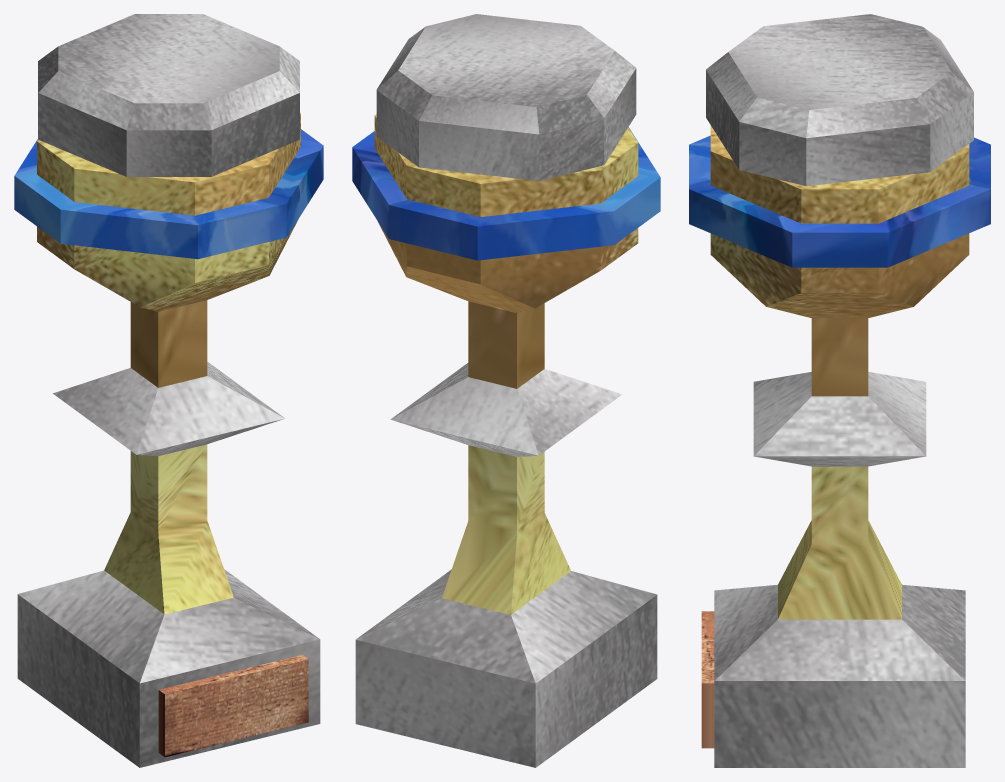
Rendered from prize.FBX.
3 views of the same model, side by side, from view 1: azimuth 30°, elevation 25°; view 2: azimuth 150°, elevation 25°; view 3: azimuth 270°, elevation 25° (orthographic). The views are drawn at different scales.
Visible parts, largest first — view 1: Object003, Box001, Object001, Object002, Box002; view 2: Object003, Box001, Object001, Object002; view 3: Object003, Box001, Object001, Object002, Box002.
Part boxes in pixels (x1,y1,x2,y2): Object003: (17, 362, 320, 767); Box001: (37, 113, 300, 614); Object001: (38, 14, 299, 176); Object002: (14, 129, 323, 259); Box002: (158, 654, 308, 757); Object003: (355, 363, 657, 767); Box001: (374, 114, 638, 614); Object001: (376, 14, 636, 180); Object002: (352, 127, 660, 260); Object003: (714, 372, 965, 767); Box001: (710, 125, 969, 619); Object001: (706, 14, 973, 186); Object002: (689, 135, 990, 267); Box002: (701, 611, 714, 748).
Bounding box in the file's own units: 55.63 × 130 × 53.81.
Materials: 4 (4 with a texture image).
